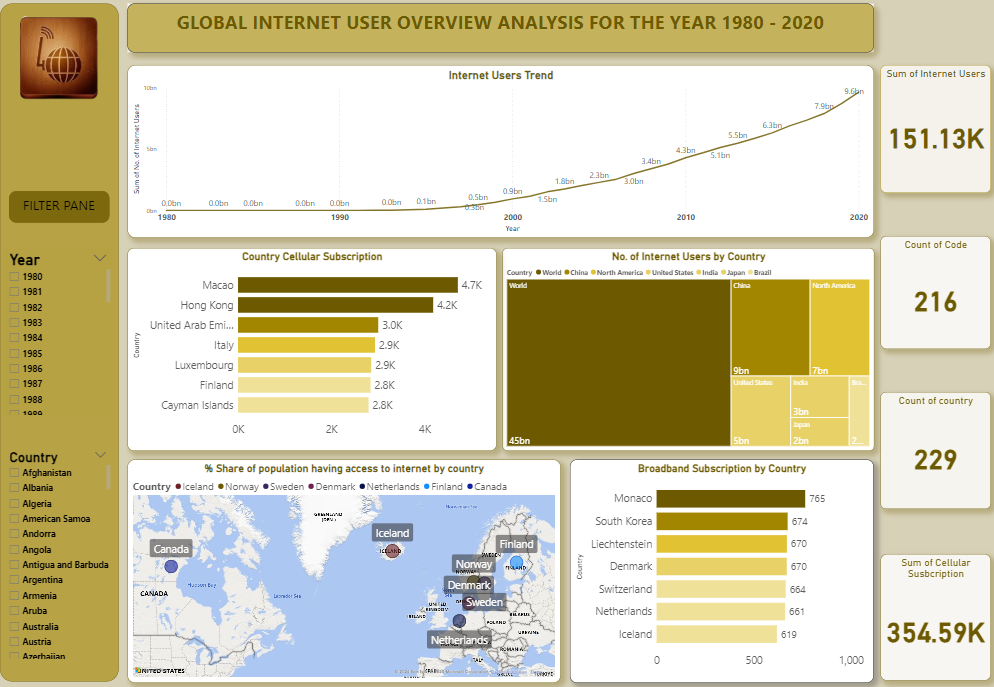

The dashboard page shown, as its layout file describes it:
{"tool":"powerbi","page":{"name":"Page 1","canvas":[2030,1491],"ordinal":0},"visuals":[{"type":"lineChart","title":"Internet Users Trend","fields":{"Category":["Final.Year"],"Y":["Sum(Final.No. of Internet Users)"]},"box":[258.3,222.6,1505.7,348.9],"z":0},{"type":"map","title":"% Share of population having access to internet by country","fields":{"Series":["Final.Entity"],"Size":["Sum(Final.Internet Users(%))"],"Category":["Final.Entity"]},"box":[258.3,1019.4,873.7,450.6],"z":1000},{"type":"treemap","title":" No. of Internet Users by Country","fields":{"Group":["Final.Entity"],"Values":["Sum(Final.No. of Internet Users)"]},"box":[1013.9,593.5,750.1,409.4],"z":2000},{"type":"clusteredBarChart","title":"Broadband Subscription by Country","fields":{"Category":["Final.Entity"],"Y":["Sum(Final.Broadband Subscription)"]},"box":[1151.2,1019.4,612.7,450.6],"z":3000},{"type":"clusteredBarChart","title":"Country Cellular Subscription","fields":{"Category":["Final.Entity"],"Y":["Sum(Final.Cellular Subscription)"]},"box":[258.3,593.5,744.6,409.4],"z":4000},{"type":"textbox","box":[258.3,98.9,1505.7,98.9],"z":5000},{"type":"textbox","box":[258.3,98.9,1505.7,98.9],"z":6000},{"type":"card","title":"Sum of Internet Users","fields":{"Values":["Sum(Final.Internet Users(%))"]},"box":[1777.7,222.6,222.6,258.3],"z":7000},{"type":"card","title":"Count of Code","fields":{"Values":["Count(Final.Code)"]},"box":[1777.7,568.8,222.6,228.1],"z":8000},{"type":"card","title":"Count of country","fields":{"Values":["Count(Final.Entity)"]},"box":[1777.7,884.7,222.6,236.3],"z":9000},{"type":"card","title":"Sum of Cellular Susbcription","fields":{"Values":["Sum(Final.Cellular Subscription)"]},"box":[1777.7,1211.7,222.6,255.5],"z":10000},{"type":"textbox","box":[0,98.9,239,1368.3],"z":11000},{"type":"slicer","fields":{"Values":["Final.Year"]},"box":[6.4,594.2,221.6,340.5],"z":12000},{"type":"slicer","fields":{"Values":["Final.Entity"]},"box":[6.4,992.5,221.6,433.6],"z":13000},{"type":"image","box":[0,99.6,237.7,250.5],"z":14000},{"type":"textbox","box":[19.3,478.6,202.4,64.2],"z":15000}]}

Visuals, with their boxes in screenshot pixels (x1, y1, x2, y2):
"Internet Users Trend" lineChart: {"left": 136, "top": 67, "right": 871, "bottom": 237}
"% Share of population having access to internet by country" map: {"left": 136, "top": 456, "right": 562, "bottom": 675}
" No. of Internet Users by Country" treemap: {"left": 505, "top": 248, "right": 871, "bottom": 448}
"Broadband Subscription by Country" clusteredBarChart: {"left": 572, "top": 456, "right": 871, "bottom": 675}
"Country Cellular Subscription" clusteredBarChart: {"left": 136, "top": 248, "right": 499, "bottom": 448}
textbox: {"left": 136, "top": 7, "right": 871, "bottom": 55}
textbox: {"left": 136, "top": 7, "right": 871, "bottom": 55}
"Sum of Internet Users" card: {"left": 877, "top": 67, "right": 986, "bottom": 193}
"Count of Code" card: {"left": 877, "top": 236, "right": 986, "bottom": 347}
"Count of country" card: {"left": 877, "top": 390, "right": 986, "bottom": 505}
"Sum of Cellular Susbcription" card: {"left": 877, "top": 549, "right": 986, "bottom": 674}
textbox: {"left": 10, "top": 7, "right": 127, "bottom": 674}
slicer - Final.Year: {"left": 13, "top": 248, "right": 122, "bottom": 414}
slicer - Final.Entity: {"left": 13, "top": 443, "right": 122, "bottom": 654}
image: {"left": 10, "top": 7, "right": 126, "bottom": 129}
textbox: {"left": 20, "top": 192, "right": 118, "bottom": 223}
